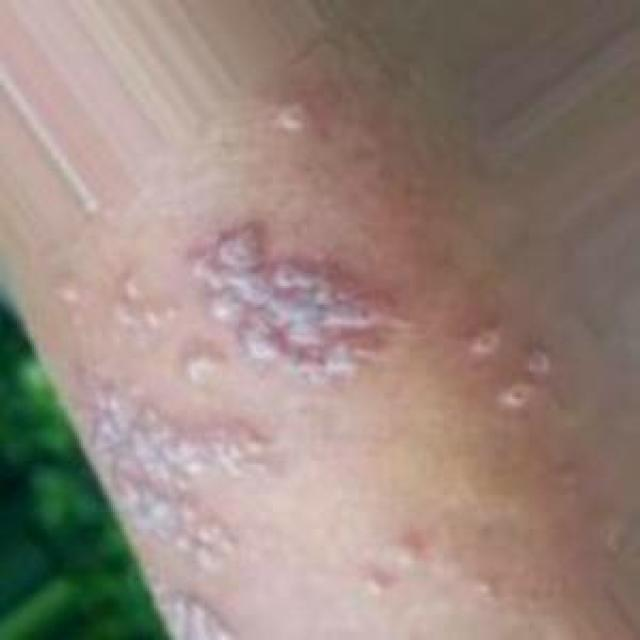Shingles: (174, 215, 406, 395), (69, 366, 275, 566), (51, 260, 181, 349), (458, 317, 558, 417), (146, 581, 239, 640)
